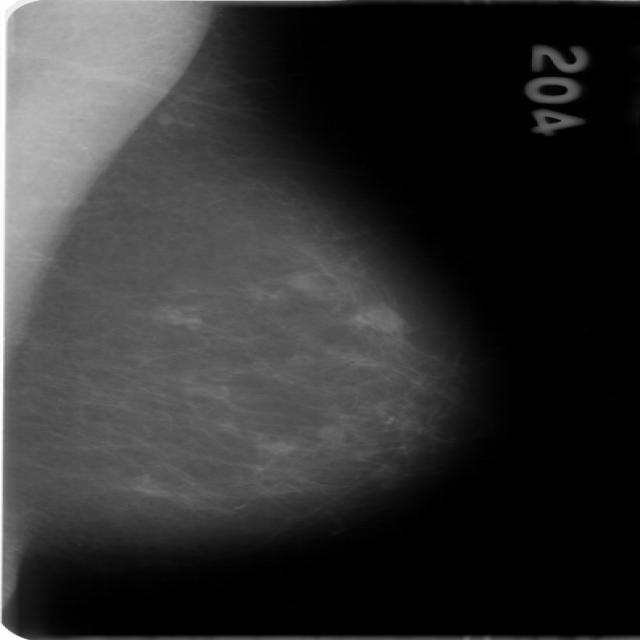tumour: (353, 301, 403, 333)
